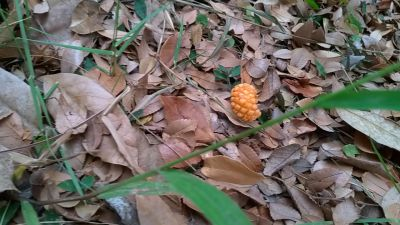eggs: (228, 81, 264, 122)
